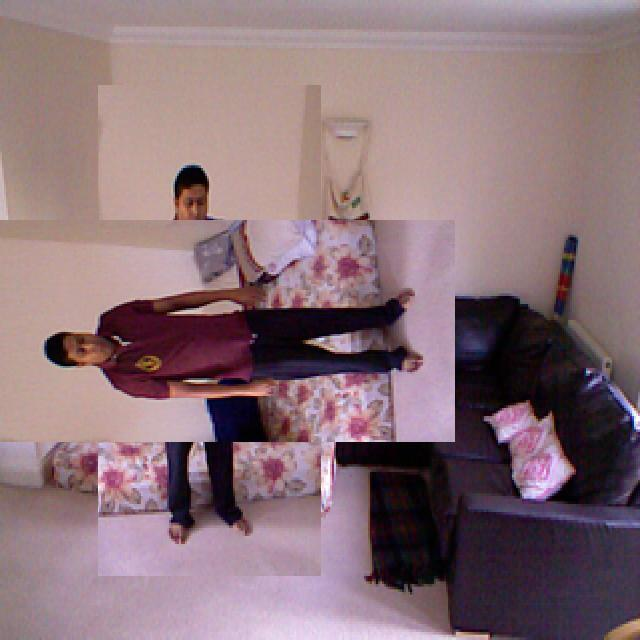NotFall: (5, 240, 440, 412)
